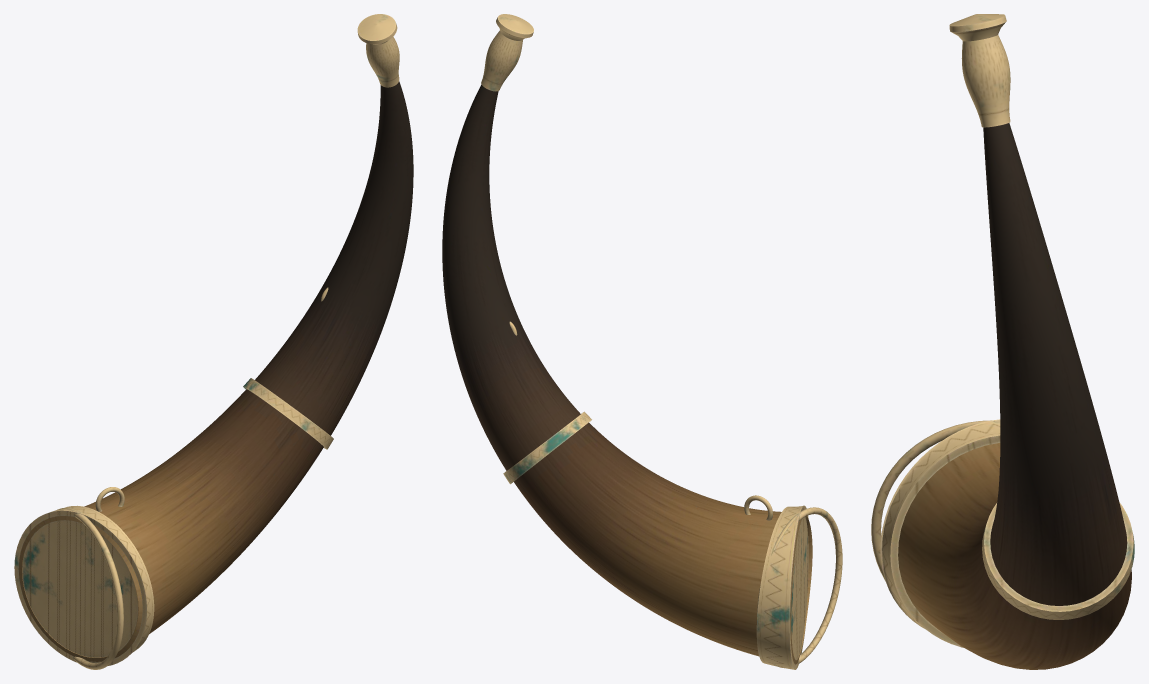
File: drinking_horn.glb
3 renders of one model, left to right at view 1: azimuth 30°, elevation 25°; view 2: azimuth 150°, elevation 25°; view 3: azimuth 270°, elevation 25°, orthographic. The views are drawn at different scales.
Visible parts, largest first — view 1: drinking_horn; view 2: drinking_horn; view 3: drinking_horn.
Boxes of the visible parts, box(x1,y1,x2,y2) form: drinking_horn: box(14, 14, 413, 669); drinking_horn: box(442, 14, 842, 669); drinking_horn: box(871, 14, 1134, 669).
Bounding box in the file's own units: 0.2752 × 0.4086 × 0.1171.
Materials: 1 (1 with a texture image).
